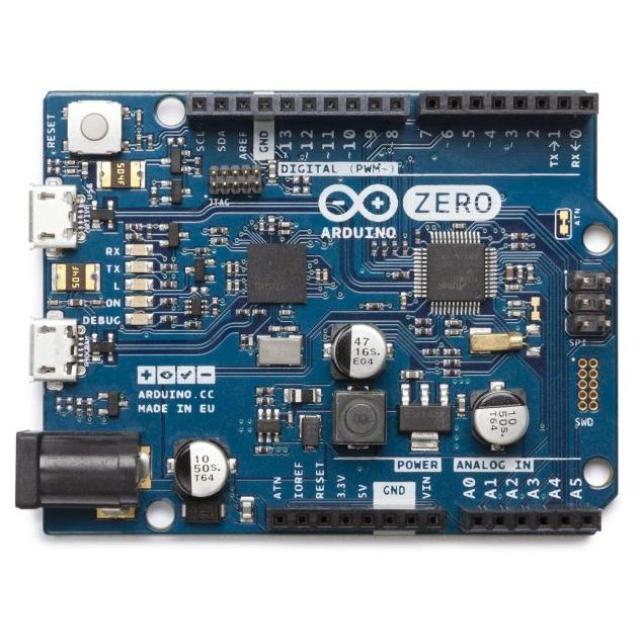Arduino-Zero: (17, 92, 618, 535)
